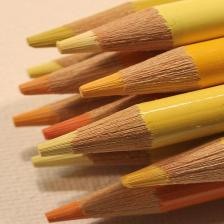yellow: (38, 86, 224, 156), (122, 138, 224, 188), (154, 0, 224, 47), (186, 38, 224, 88), (79, 72, 124, 98), (57, 30, 102, 54), (27, 25, 74, 47), (30, 154, 93, 168), (27, 61, 63, 78), (130, 0, 180, 11)
